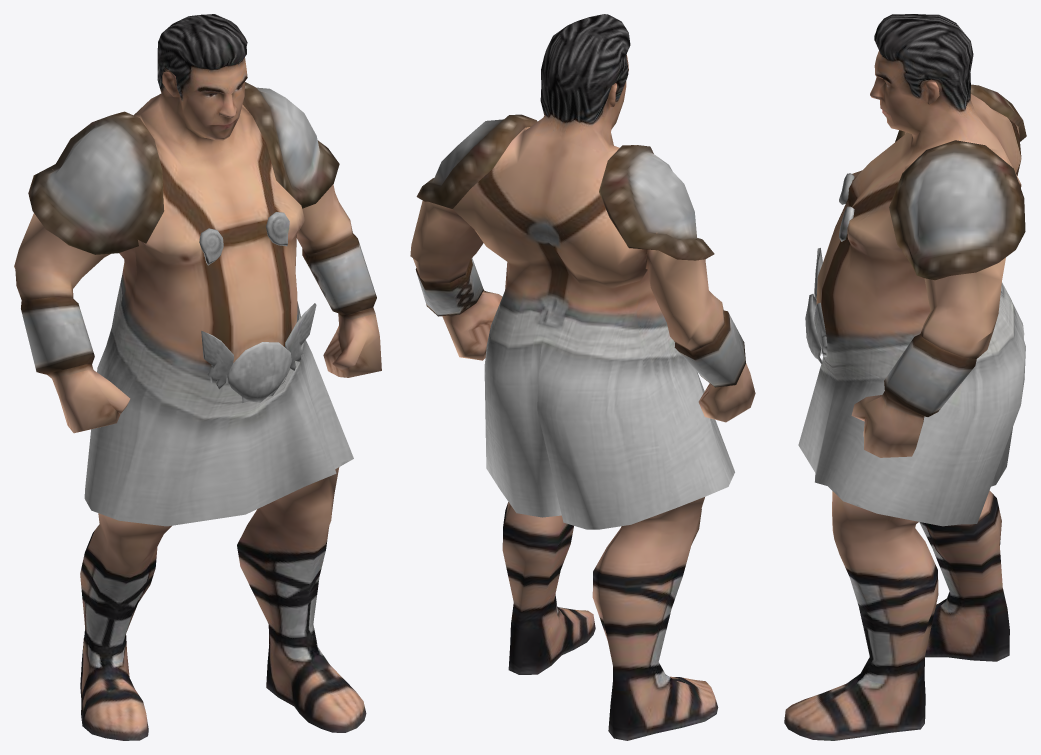
The model's file is body-championarchers.glb.
3 views of the same model, side by side, from view 1: azimuth 30°, elevation 25°; view 2: azimuth 150°, elevation 25°; view 3: azimuth 270°, elevation 25° (orthographic). The views are drawn at different scales.
Bounding box in the file's own units: 1.06 × 2.12 × 0.6955.
1 material, 1 textured.
